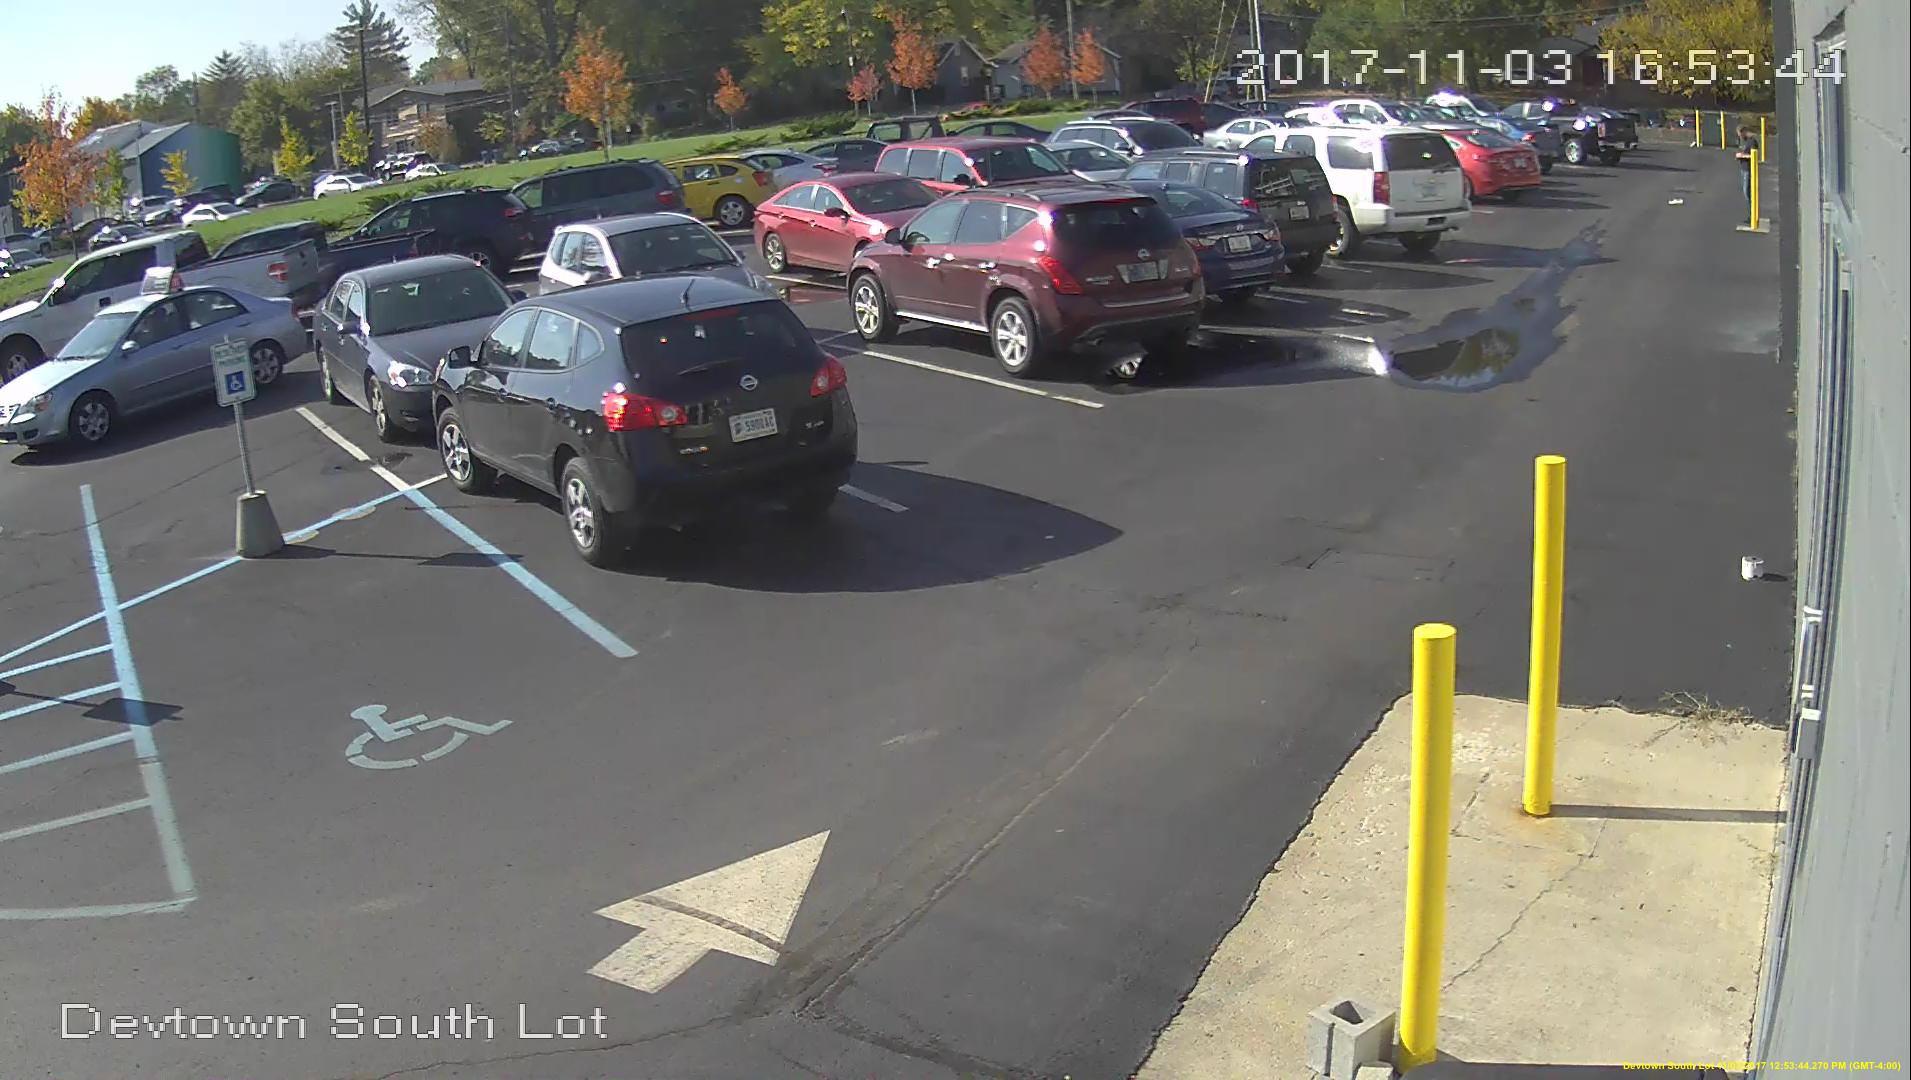jimmy_johns: (134, 261, 185, 298)
